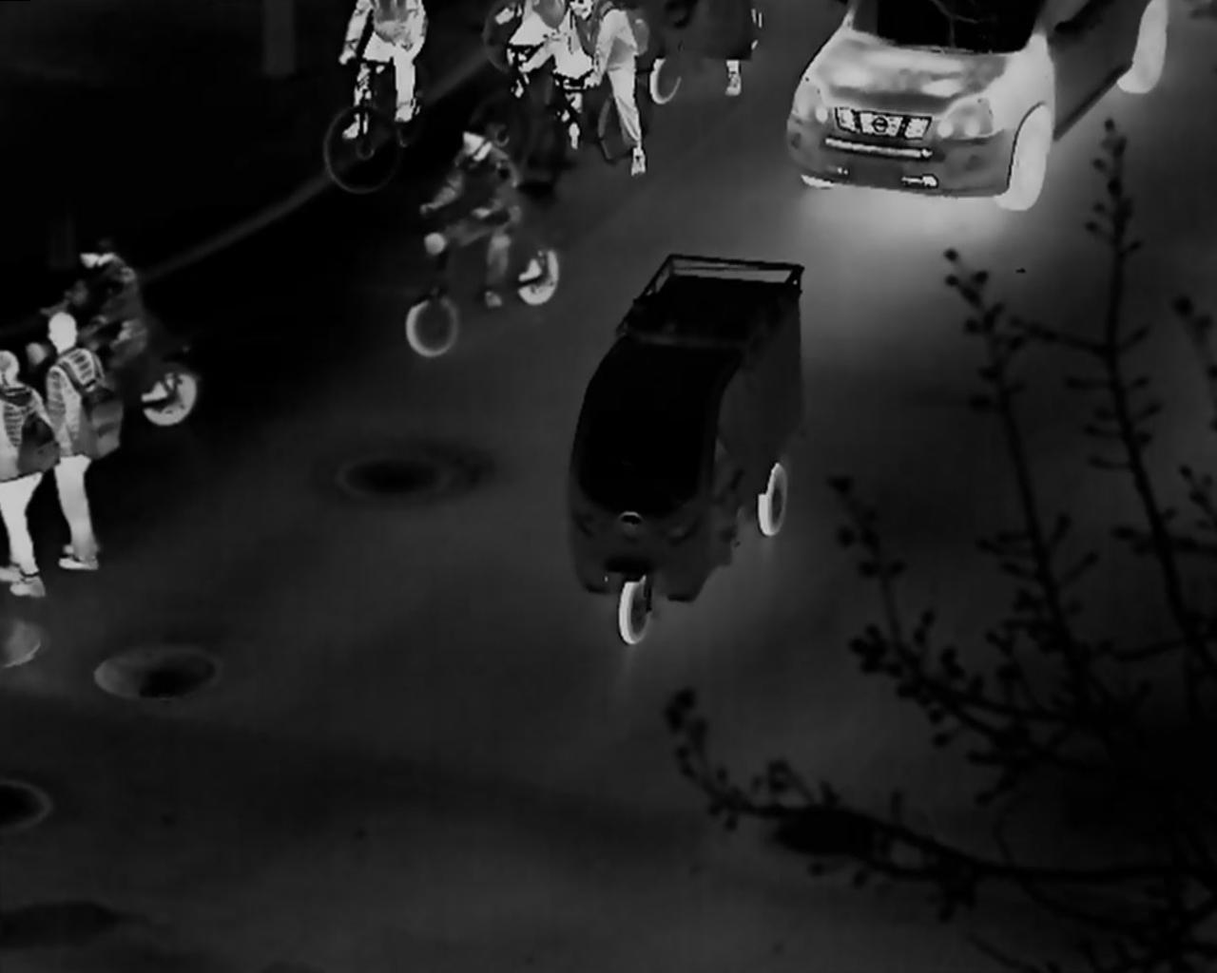person: (43, 310, 123, 571), (417, 124, 522, 310), (45, 238, 148, 372)
